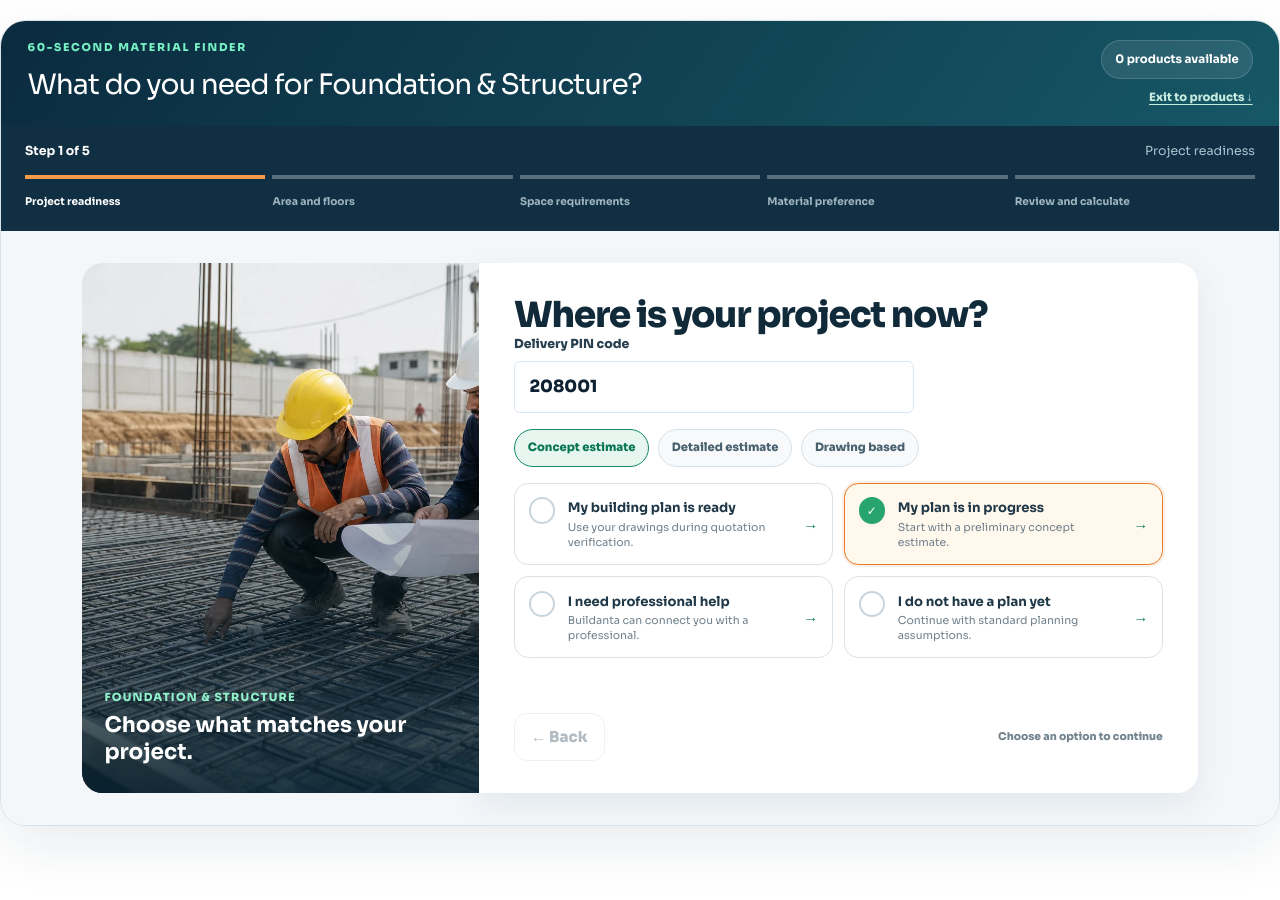
Test: StageQuestionnaire › keeps the customer on the first step when the PIN code is invalid
The width and height of the screenshot is (1280, 900).
Replace the text in the field labelled "Delivery PIN code" with "2080" at point(714, 387), box x1=514 y1=361 x2=914 y2=413
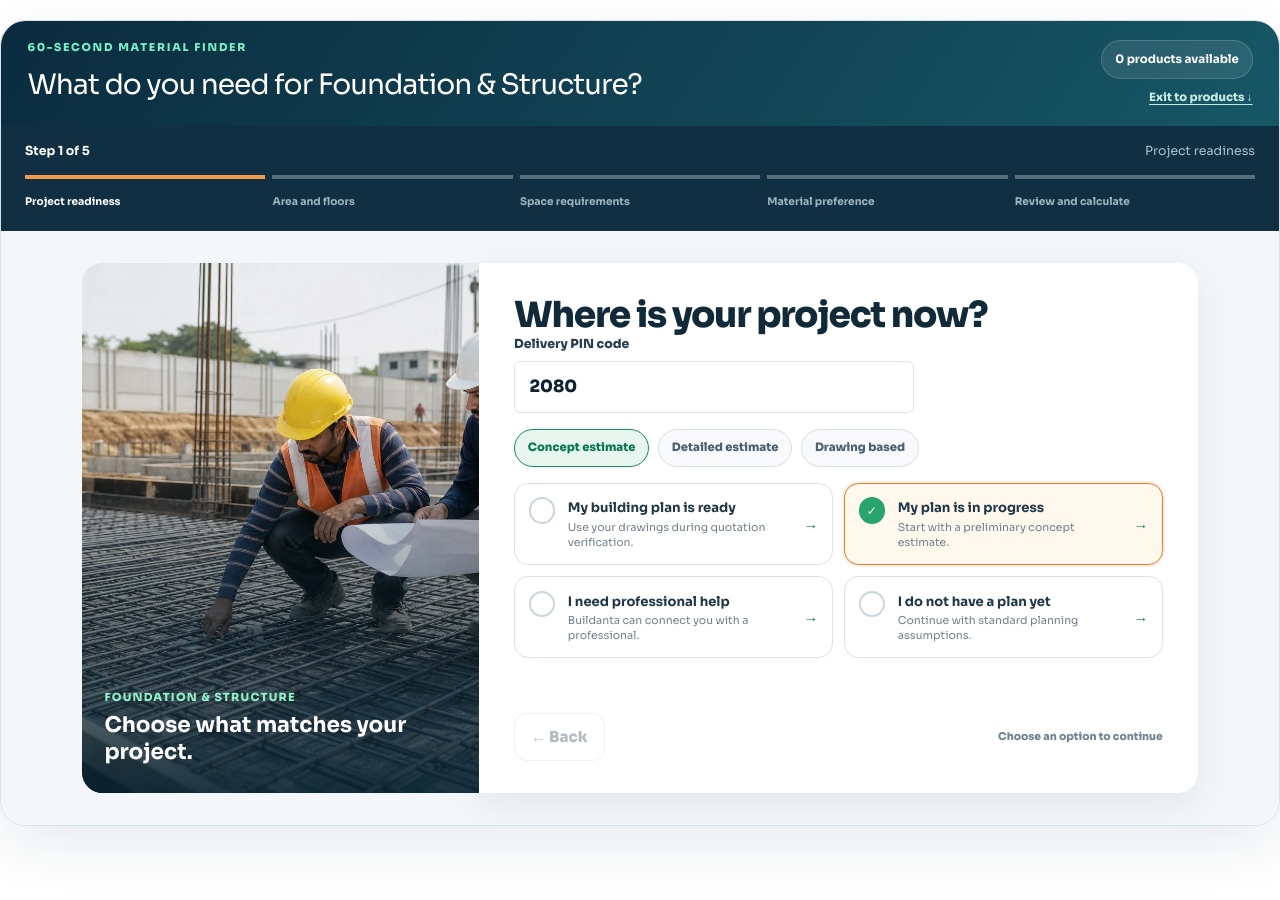
Click the button "My plan is in progress" at point(1003, 524), box x1=844 y1=483 x2=1163 y2=565
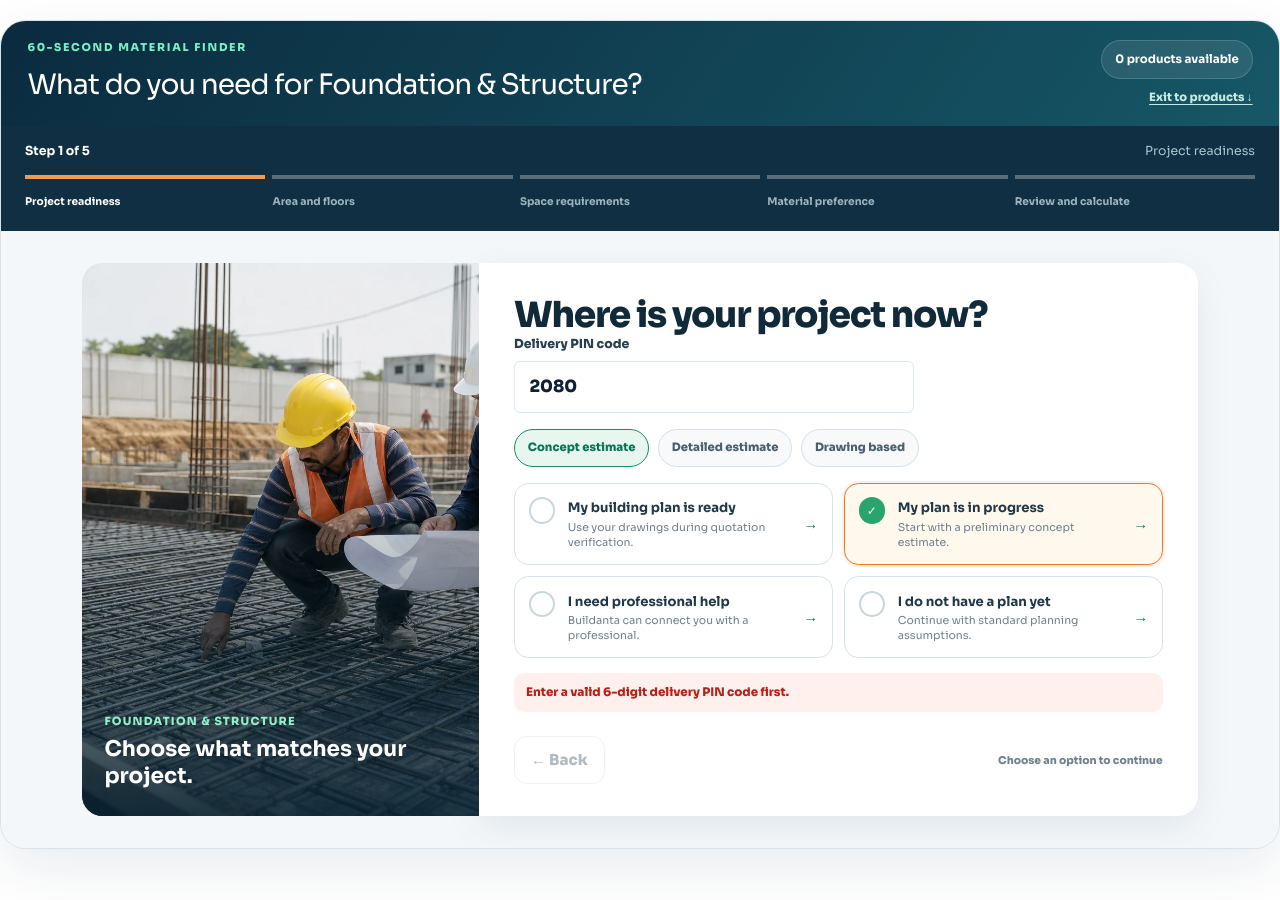
Expected: the text "Where is your project now?" is shown, x1=514 y1=295 x2=987 y2=335
Expected: the message reads "Enter a valid 6-digit delivery PIN code first.", x1=526 y1=685 x2=789 y2=699
